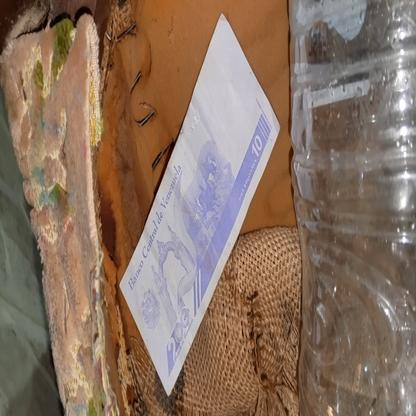vef_back: (117, 13, 281, 395)
